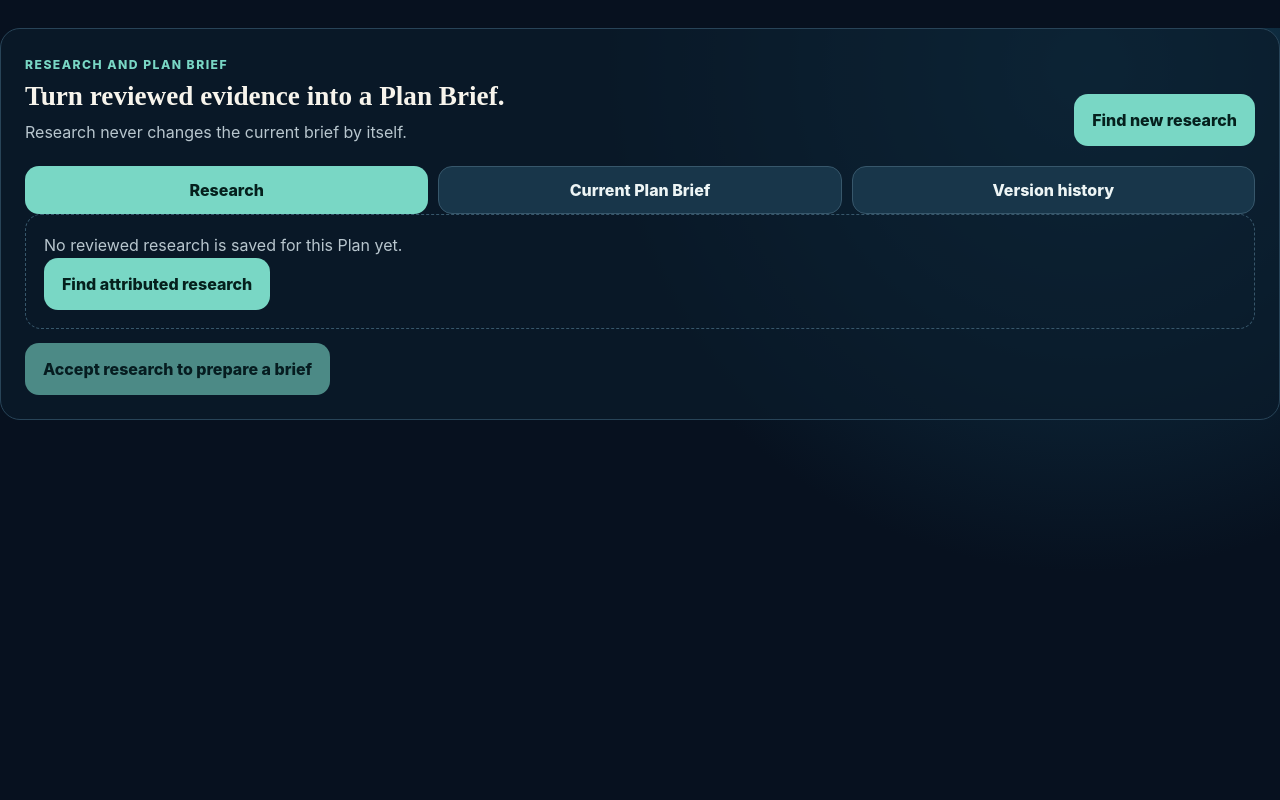
Test: PlanMemorySection › fails malformed research safely while keeping the current brief independently available
The image size is (1280, 800).
Expected: the text "No reviewed research is saved for this Plan yet." is shown, [44,235,402,255]
Click the button "Find new research": (1165, 120) [1074,94,1255,146]
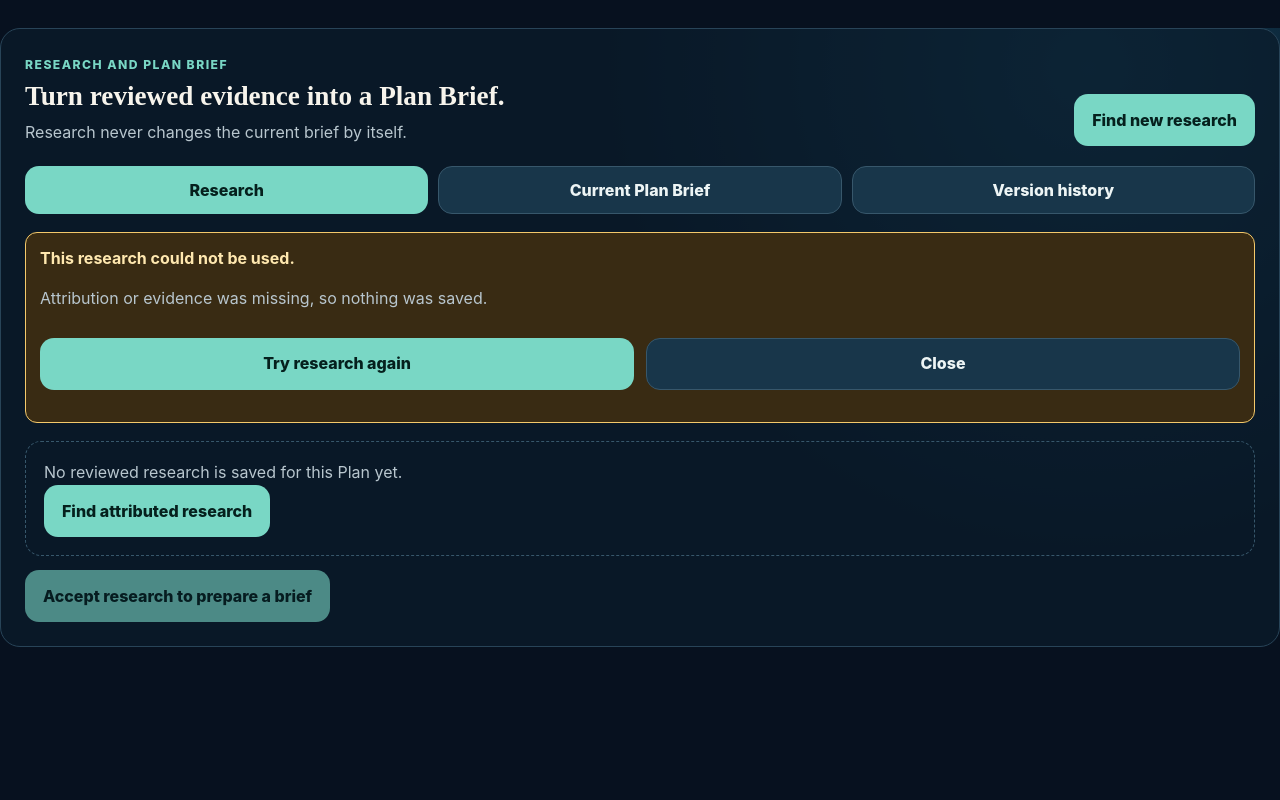
Result: the text "This research could not be used." is shown at [40,248,295,268]
Click the tab "Current Plan Brief": (640, 190) [438,166,842,214]
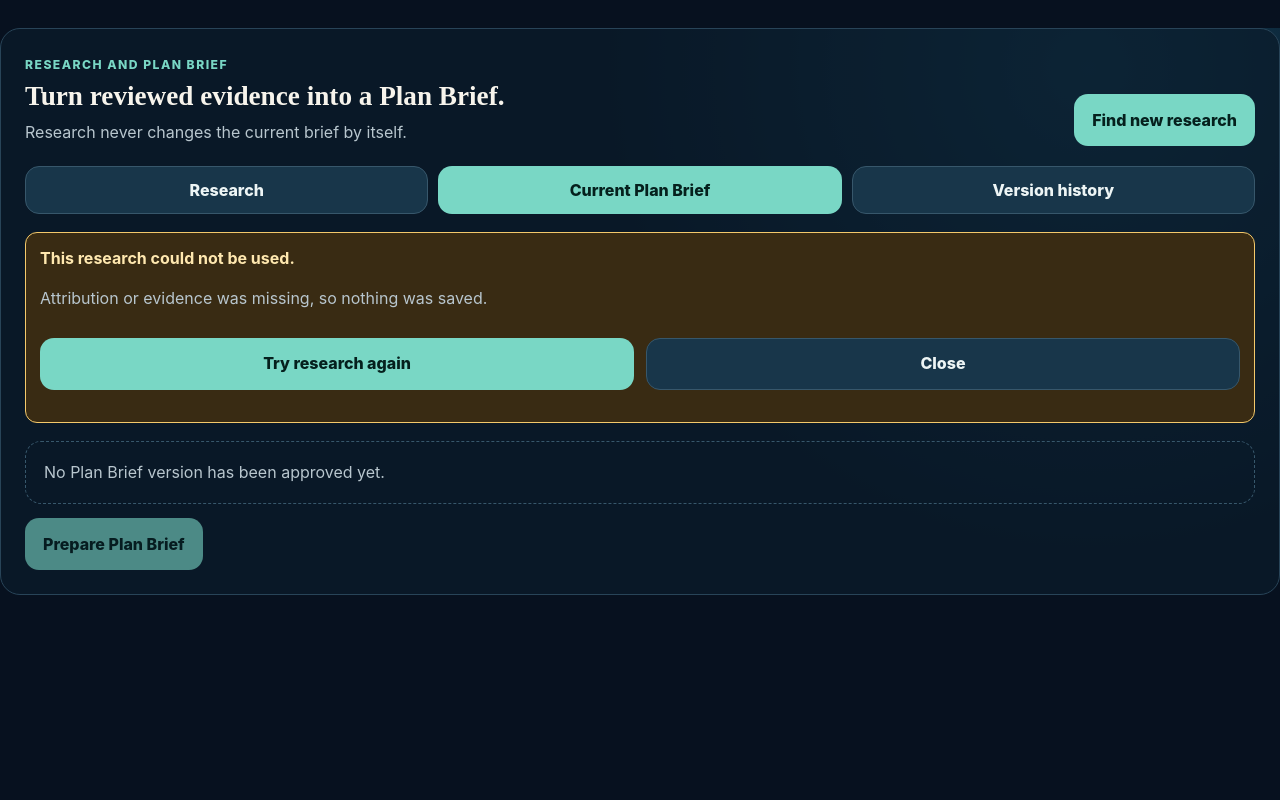
Result: the text "No Plan Brief version has been approved yet." is shown at [44,462,385,482]
